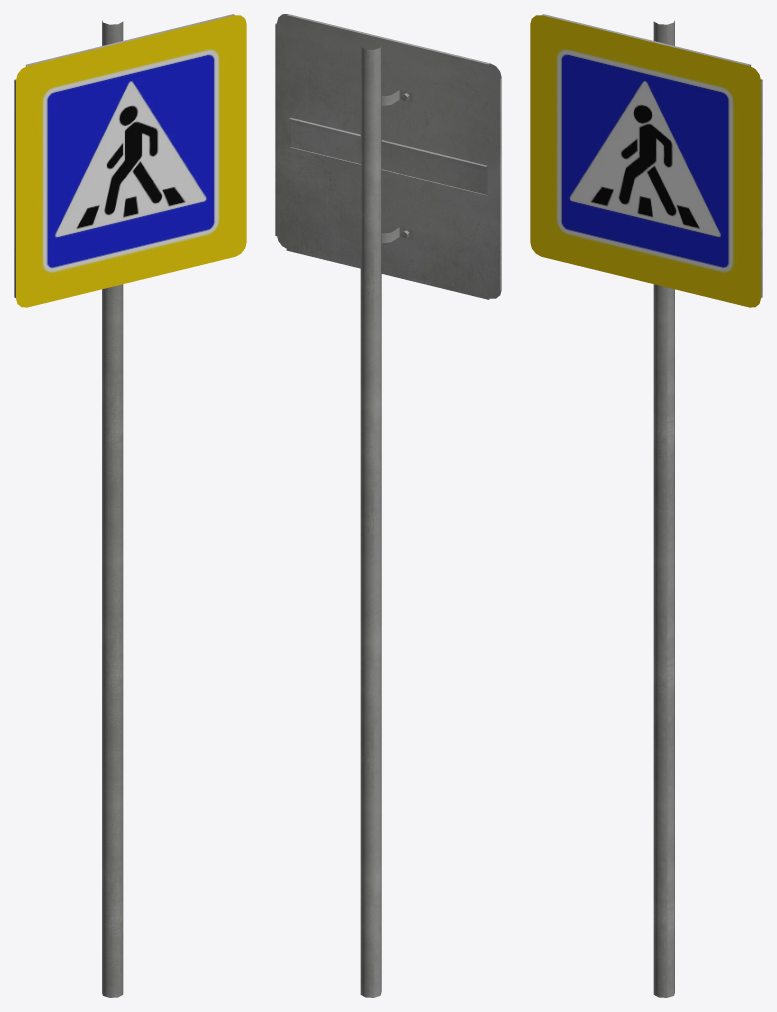
The model's file is sign_crossing.glb.
3 renders of one model, left to right at view 1: azimuth 30°, elevation 25°; view 2: azimuth 150°, elevation 25°; view 3: azimuth 330°, elevation 25°, orthographic. The views are drawn at different scales.
Visible parts, largest first — view 1: RoadCrossing_RoadCrosing_0, __Pole_MetalBack_0, RoadCrossing_MetalBack_0; view 2: RoadCrossing_MetalBack_0, __Pole_MetalBack_0; view 3: RoadCrossing_RoadCrosing_0, __Pole_MetalBack_0, RoadCrossing_MetalBack_0.
Boxes of the visible parts, x1,y1,x2,y2 form: RoadCrossing_RoadCrosing_0: (16, 15, 246, 307); __Pole_MetalBack_0: (102, 20, 123, 997); RoadCrossing_MetalBack_0: (14, 14, 234, 297); RoadCrossing_MetalBack_0: (275, 14, 501, 299); __Pole_MetalBack_0: (360, 44, 381, 997); RoadCrossing_RoadCrosing_0: (530, 15, 760, 307); __Pole_MetalBack_0: (653, 20, 674, 997); RoadCrossing_MetalBack_0: (542, 14, 762, 297).
Bounding box in the file's own units: 0.72 × 2.9 × 0.1311.
2 materials, 2 textured.
